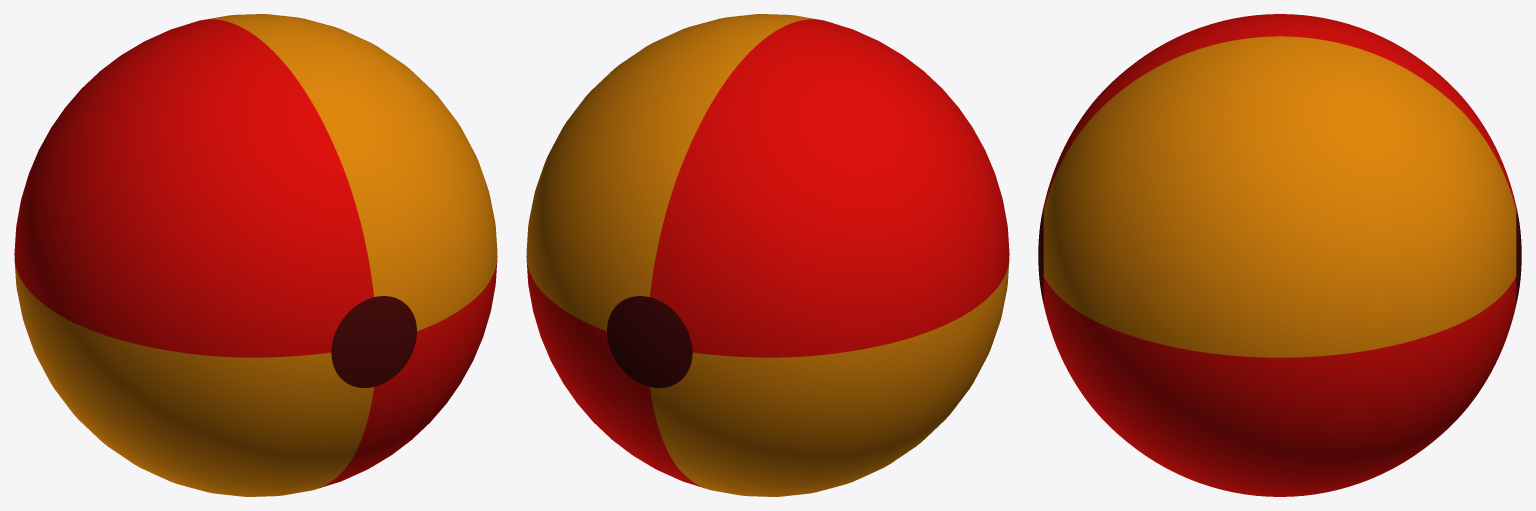
File: bouncer.glb
3 views of the same model, side by side, from view 1: azimuth 30°, elevation 25°; view 2: azimuth 150°, elevation 25°; view 3: azimuth 270°, elevation 25° (orthographic).
Visible parts, largest first — view 1: Sphere; view 2: Sphere; view 3: Sphere.
Part boxes in pixels (x1=…): Sphere: x1=14, y1=14, x2=497, y2=496; Sphere: x1=526, y1=14, x2=1009, y2=496; Sphere: x1=1038, y1=14, x2=1521, y2=496.
Size of the model in its own units: 0.5 by 0.5 by 0.5.
